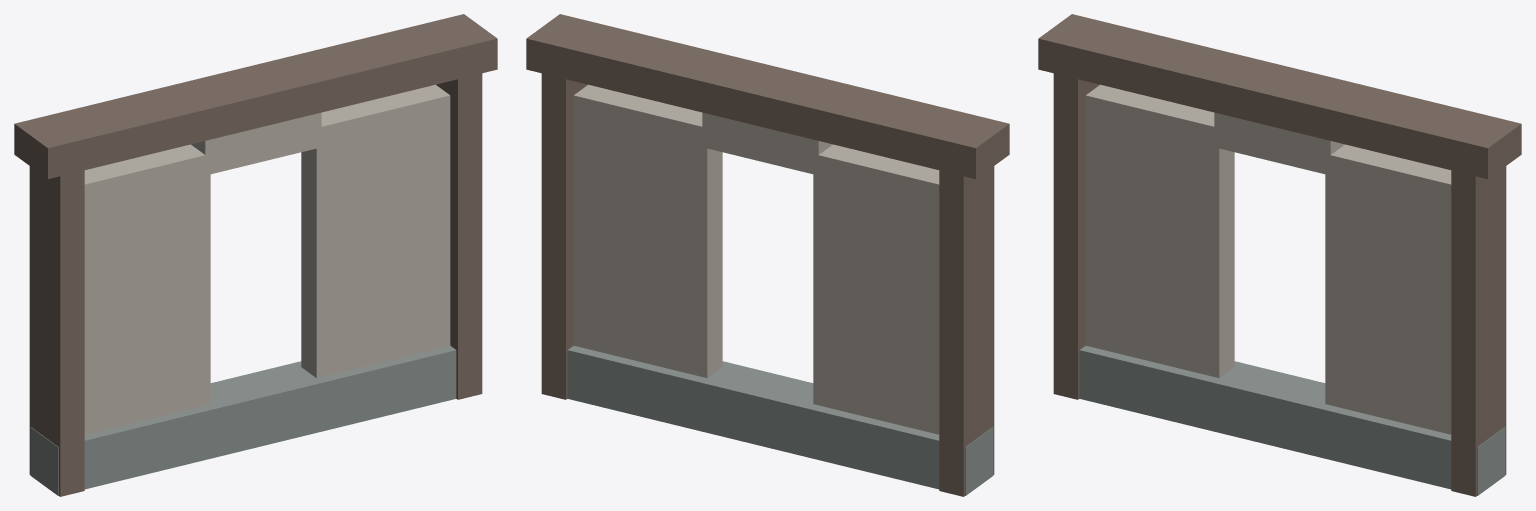
Rendered from painel_porta_livre.glb.
The picture shows the model from 3 angles, left to right: view 1: azimuth 30°, elevation 25°; view 2: azimuth 150°, elevation 25°; view 3: azimuth 330°, elevation 25°; orthographic projection.
Visible parts, largest first — view 1: painel_porta_livre_part_002, painel_porta_livre_part_001, painel_porta_livre_part_006, painel_porta_livre_part_000, painel_porta_livre_part_004, painel_porta_livre_part_005, painel_porta_livre_part_003; view 2: painel_porta_livre_part_002, painel_porta_livre_part_001, painel_porta_livre_part_006, painel_porta_livre_part_000, painel_porta_livre_part_004, painel_porta_livre_part_005, painel_porta_livre_part_003; view 3: painel_porta_livre_part_001, painel_porta_livre_part_002, painel_porta_livre_part_006, painel_porta_livre_part_000, painel_porta_livre_part_005, painel_porta_livre_part_004, painel_porta_livre_part_003.
Part boxes in pixels (<box>): painel_porta_livre_part_002: <box>301,84,450,378</box>; painel_porta_livre_part_001: <box>84,144,210,434</box>; painel_porta_livre_part_006: <box>14,14,497,179</box>; painel_porta_livre_part_000: <box>30,345,456,495</box>; painel_porta_livre_part_004: <box>29,166,84,496</box>; painel_porta_livre_part_005: <box>436,73,482,399</box>; painel_porta_livre_part_003: <box>191,112,321,175</box>; painel_porta_livre_part_002: <box>573,84,722,378</box>; painel_porta_livre_part_001: <box>813,144,939,434</box>; painel_porta_livre_part_006: <box>526,14,1009,179</box>; painel_porta_livre_part_000: <box>567,345,993,495</box>; painel_porta_livre_part_004: <box>939,166,994,496</box>; painel_porta_livre_part_005: <box>541,73,587,399</box>; painel_porta_livre_part_003: <box>702,112,832,174</box>; painel_porta_livre_part_001: <box>1085,84,1234,378</box>; painel_porta_livre_part_002: <box>1325,144,1451,434</box>; painel_porta_livre_part_006: <box>1038,14,1521,179</box>; painel_porta_livre_part_000: <box>1079,345,1505,495</box>; painel_porta_livre_part_005: <box>1451,166,1506,496</box>; painel_porta_livre_part_004: <box>1053,73,1099,399</box>; painel_porta_livre_part_003: <box>1214,112,1344,174</box>.
Size of the model in its own units: 4.25 by 3.19 by 0.55.
